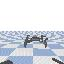drone: (22, 35, 48, 48)
